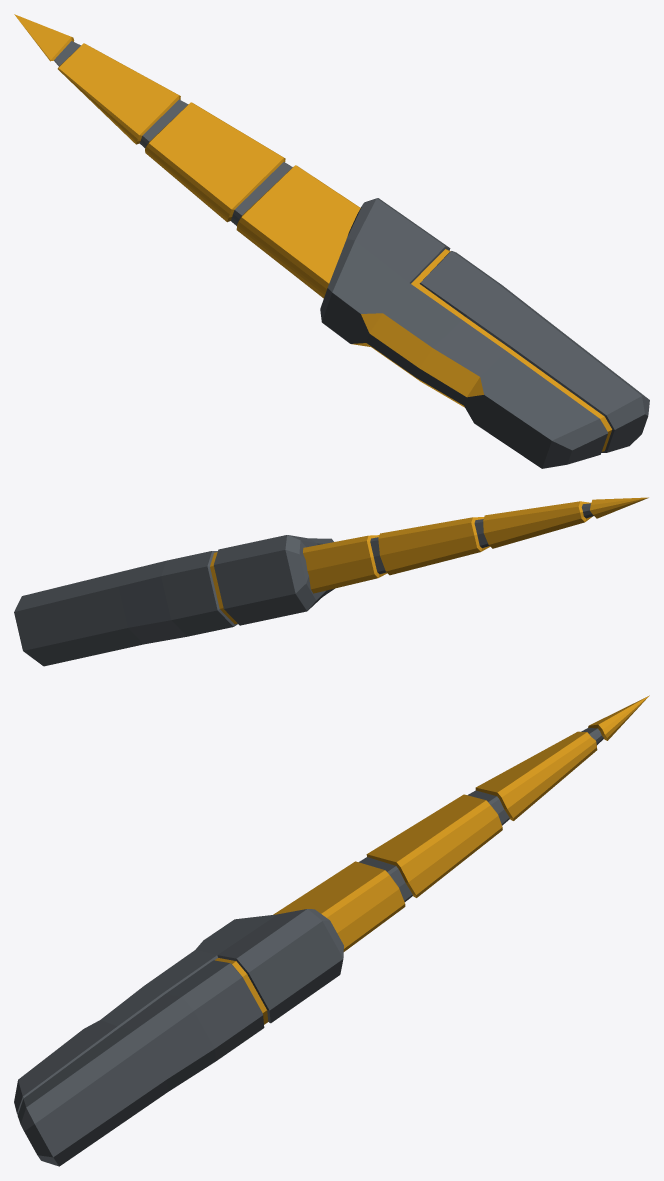
Rendered from Fighter_03_Right_Wing_Yellow.fbx.
3 renders of one model, top to bottom at view 1: azimuth 30°, elevation 25°; view 2: azimuth 210°, elevation 25°; view 3: azimuth 270°, elevation 25°, orthographic. The views are drawn at different scales.
Parts seen in each view (by area): view 1: Fighter_03_Right_Wing_Yellow; view 2: Fighter_03_Right_Wing_Yellow; view 3: Fighter_03_Right_Wing_Yellow.
Part boxes in pixels (x1,y1,x2,y2): Fighter_03_Right_Wing_Yellow: (14, 14, 649, 468); Fighter_03_Right_Wing_Yellow: (14, 497, 648, 666); Fighter_03_Right_Wing_Yellow: (14, 695, 649, 1166).
Bounding box in the file's own units: 590 × 501 × 932.
1 material, 1 textured.
